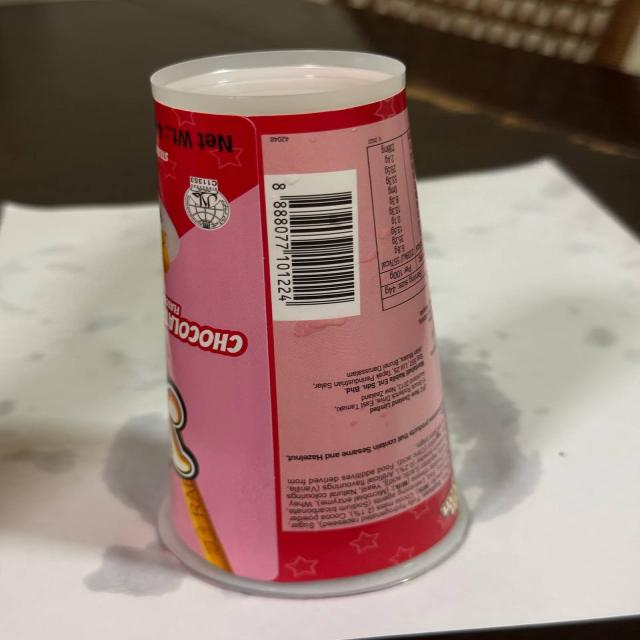yanyan-cracker: (138, 43, 476, 605)
